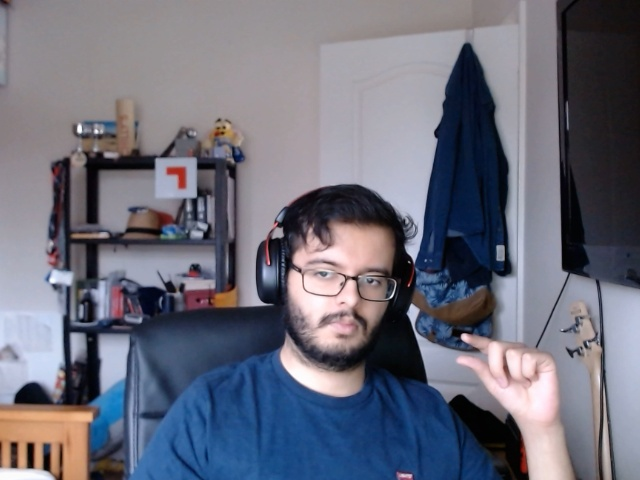Small: (442, 329, 569, 420)
